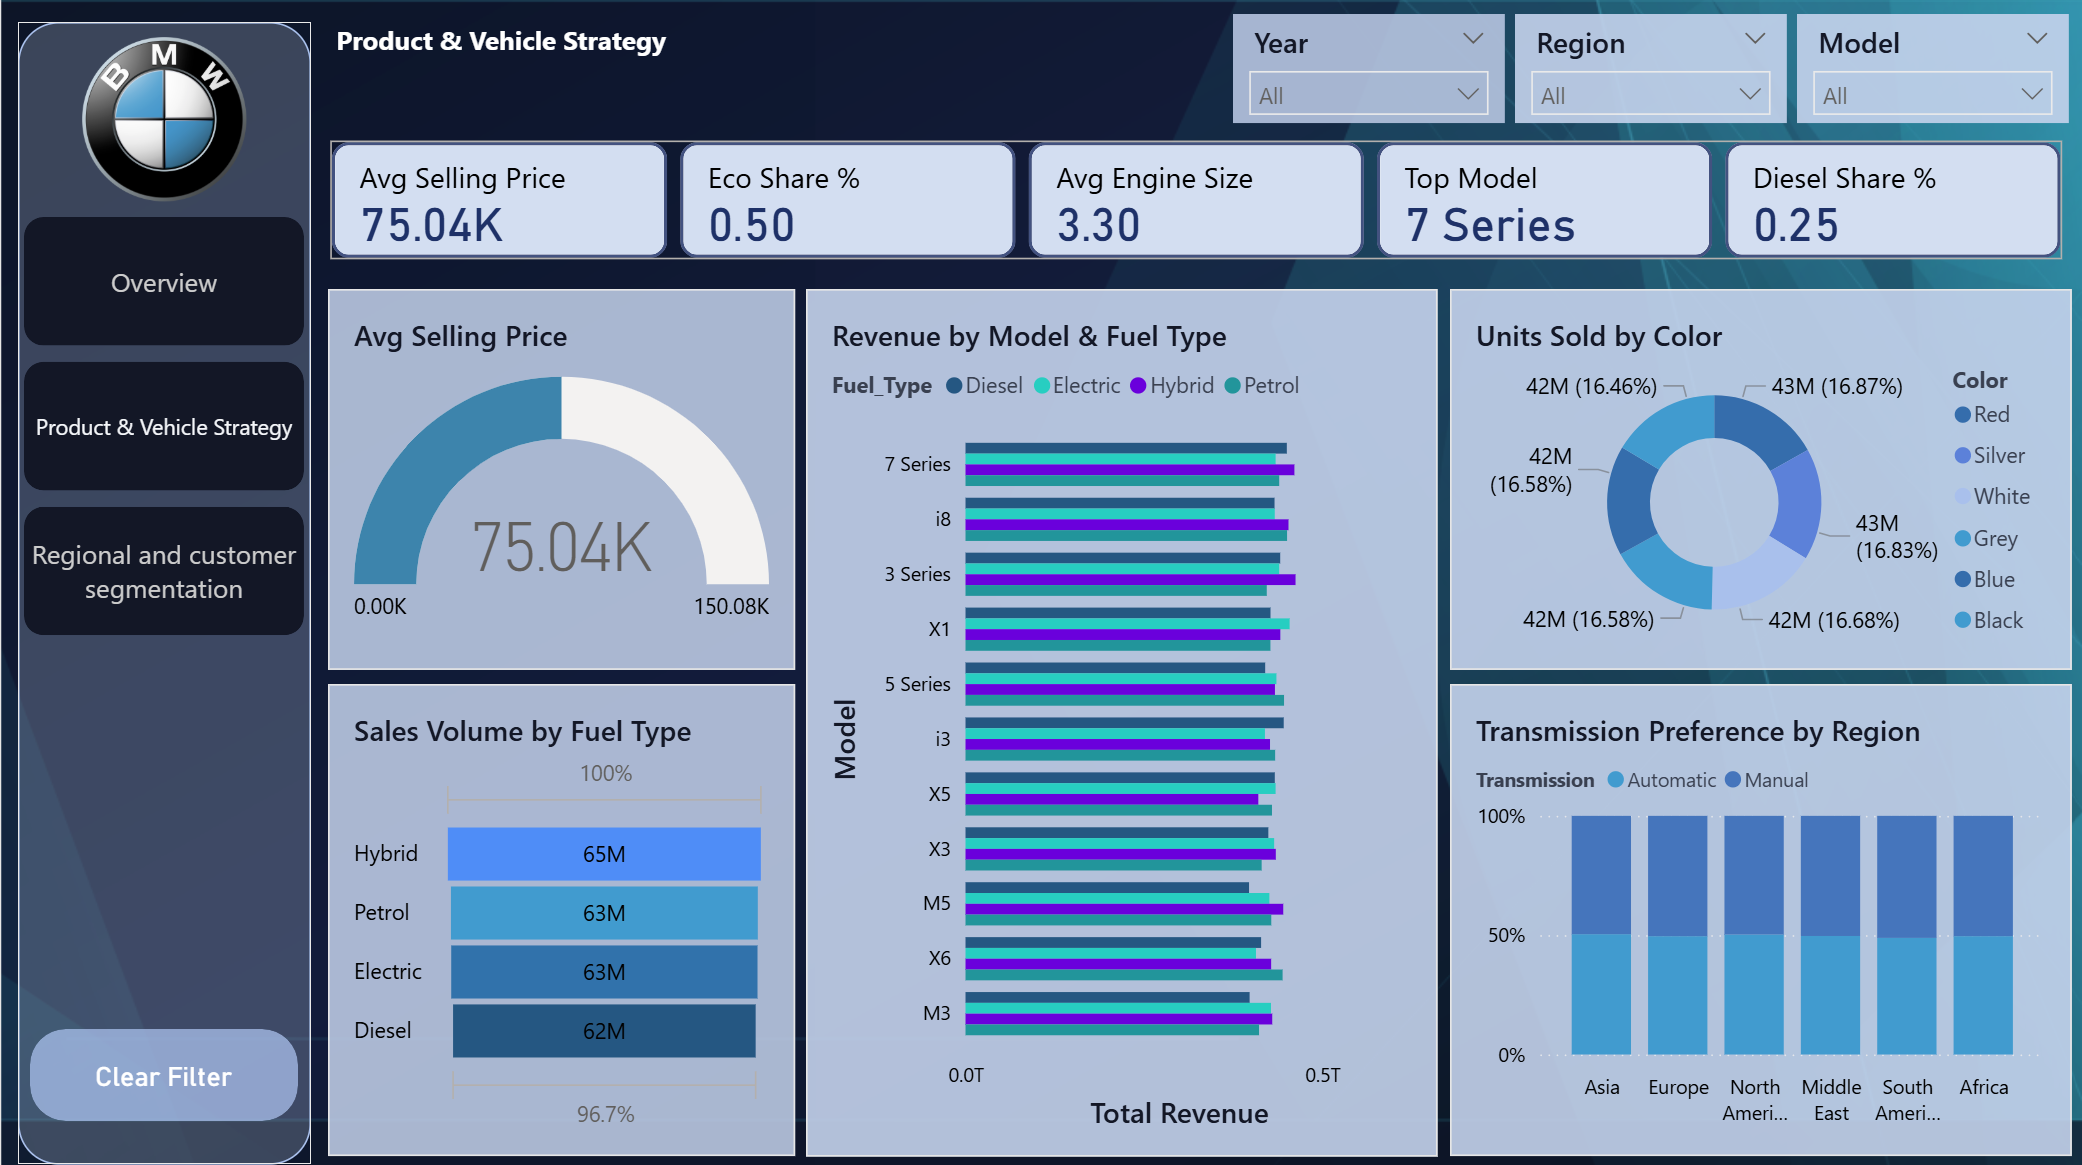

What the dashboard file says about the page in this screenshot:
{"tool":"powerbi","page":{"name":"Product & Vehicle Strategy","canvas":[1280,720],"ordinal":1},"visuals":[{"type":"slicer","fields":{"Values":["BMW Sales.Year"]},"box":[757.1,8.9,167.2,67],"z":0,"group":"g2"},{"type":"shape","box":[10.4,14.1,180,701.6],"z":0},{"type":"slicer","fields":{"Values":["BMW Sales.Region"]},"box":[930.1,9,167.2,67],"z":1000,"group":"g2"},{"type":"textbox","box":[200.9,9.2,229.1,37.5],"z":1000},{"type":"slicer","fields":{"Values":["BMW Sales.Model"]},"box":[1103.6,8.9,167.2,67],"z":2000,"group":"g2"},{"type":"gauge","fields":{"Y":["Key Measures.Avg Selling Price"]},"box":[201.1,177.9,286.9,234.2],"z":2000},{"type":"clusteredBarChart","title":"Revenue by Model & Fuel Type","fields":{"Category":["BMW Sales.Model"],"Y":["Key Measures.Total Revenue"],"Series":["BMW Sales.Fuel_Type"]},"box":[494.3,177.9,387.9,532.7],"z":3000},{"type":"funnel","title":"Sales Volume by Fuel Type","fields":{"Category":["BMW Sales.Fuel_Type"],"Y":["Sum(BMW Sales.Unite_Sold)"]},"box":[201.1,421,286.9,289.6],"z":4000},{"type":"donutChart","title":"Units Sold by Color","fields":{"Category":["BMW Sales.Color"],"Y":["Sum(BMW Sales.Unite_Sold)"]},"box":[890.3,177.9,381.7,234.2],"z":5000},{"type":"hundredPercentStackedColumnChart","title":"Transmission Preference by Region","fields":{"Category":["BMW Sales.Region"],"Y":["Sum(BMW Sales.Unite_Sold)"],"Series":["BMW Sales.Transmission"]},"box":[890.3,421,381.7,289.6],"z":6000},{"type":"cardVisual","fields":{"Data":["Key Measures.Avg Selling Price","Key Measures.Eco Share %","Key Measures.Avg Engine Size","Key Measures.Top Model","Key Measures.Diesel Share %"]},"box":[200.3,82.9,1071.4,81.7],"z":7000},{"type":"group","id":"g1","title":"Group 1","box":[757.1,8.9,514,67],"z":8000},{"type":"image","box":[25.9,23.2,148.4,101],"z":9000},{"type":"pageNavigator","box":[14.1,133.9,172,259.9],"z":10000},{"type":"actionButton","box":[17.8,632.8,164.6,56.5],"z":11000},{"type":"group","id":"g2","title":"Group 2","box":[757.1,8.9,513.6,67.1],"z":14006,"group":"g1"}]}

Visuals, with their boxes in screenshot pixels (x1, y1, x2, y2), scaled from the page's 1280x720 canvas onto the 2082x1165 screenshot:
slicer - BMW Sales.Year: bbox(1231, 14, 1503, 123)
shape: bbox(17, 23, 310, 1158)
slicer - BMW Sales.Region: bbox(1513, 15, 1785, 123)
textbox: bbox(327, 15, 699, 76)
slicer - BMW Sales.Model: bbox(1795, 14, 2067, 123)
gauge - Key Measures.Avg Selling Price: bbox(327, 288, 794, 667)
"Revenue by Model & Fuel Type" clusteredBarChart: bbox(804, 288, 1435, 1150)
"Sales Volume by Fuel Type" funnel: bbox(327, 681, 794, 1150)
"Units Sold by Color" donutChart: bbox(1448, 288, 2069, 667)
"Transmission Preference by Region" hundredPercentStackedColumnChart: bbox(1448, 681, 2069, 1150)
cardVisual - Key Measures.Avg Selling Price x Key Measures.Eco Share %: bbox(326, 134, 2068, 266)
"Group 1" group: bbox(1231, 14, 2068, 123)
image: bbox(42, 38, 284, 201)
pageNavigator: bbox(23, 217, 303, 637)
actionButton: bbox(29, 1024, 297, 1115)
"Group 2" group: bbox(1231, 14, 2067, 123)
